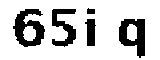5: (49, 5, 81, 53)
6: (11, 6, 46, 48)
i: (83, 4, 103, 50)
q: (115, 15, 149, 60)
